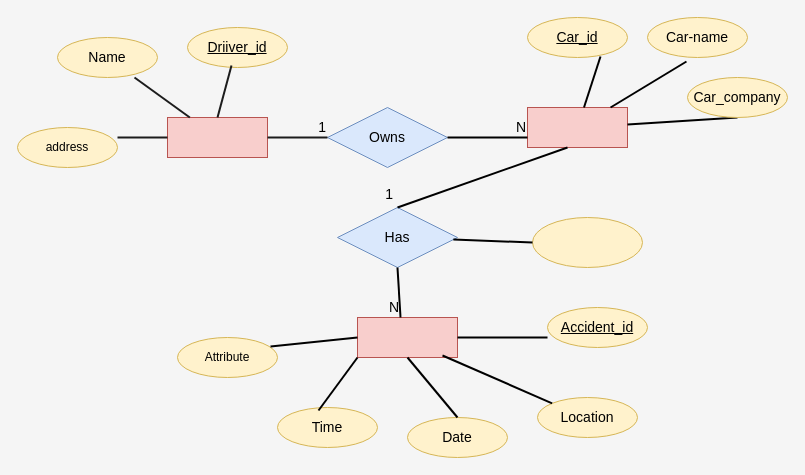
Some shapes in this 805 by 475 pixel diagram are drawn without their labels. Each missing label, with the centre of its shape:
Accident: the point at 407,337
Car: the point at 577,127
Car Owner: the point at 217,137
Damage Amount: the point at 587,242
